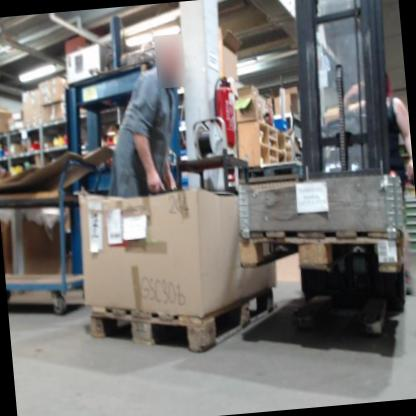pallet: (87, 280, 281, 364), (239, 219, 405, 288)
pallet_truck: (254, 0, 416, 349)
